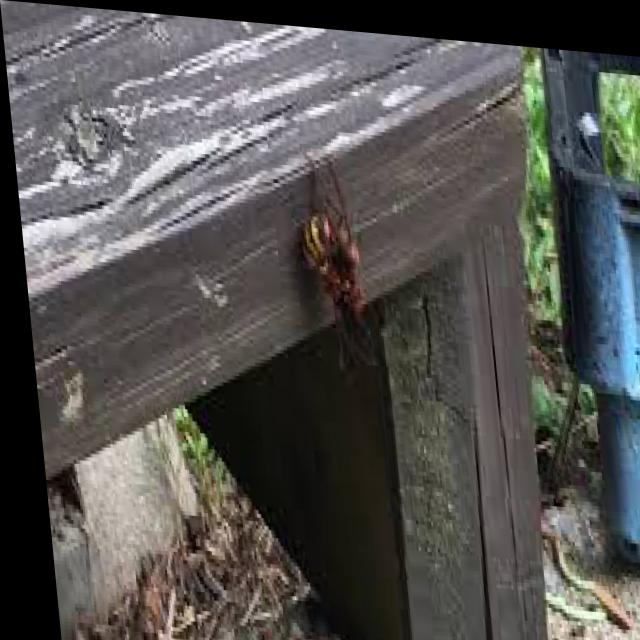Vespa Crabro: (258, 116, 390, 361)
